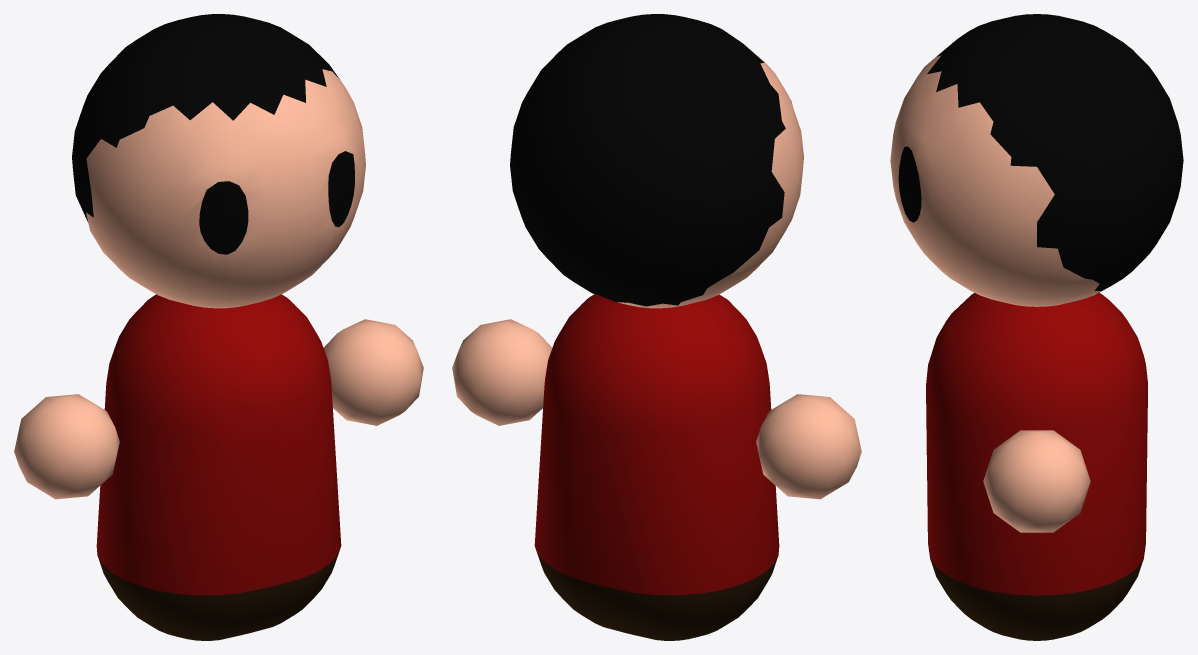
The model's file is NPC_tierra.fbx.
The picture shows the model from 3 angles, left to right: view 1: azimuth 30°, elevation 25°; view 2: azimuth 150°, elevation 25°; view 3: azimuth 270°, elevation 25°; orthographic projection.
Visible parts, largest first — view 1: Npc, Sphere.001, Icosphere; view 2: Npc, Sphere.001, Icosphere; view 3: Sphere.001, Npc, Icosphere.
Boxes of the visible parts, <box> form: Npc: <box>96,294,341,640</box>; Sphere.001: <box>72,14,365,308</box>; Icosphere: <box>14,319,423,499</box>; Npc: <box>534,294,779,640</box>; Sphere.001: <box>510,14,803,308</box>; Icosphere: <box>452,319,861,499</box>; Sphere.001: <box>890,14,1183,306</box>; Npc: <box>926,292,1147,640</box>; Icosphere: <box>983,430,1090,532</box>.
Size of the model in its own units: 406 by 592 by 264.
